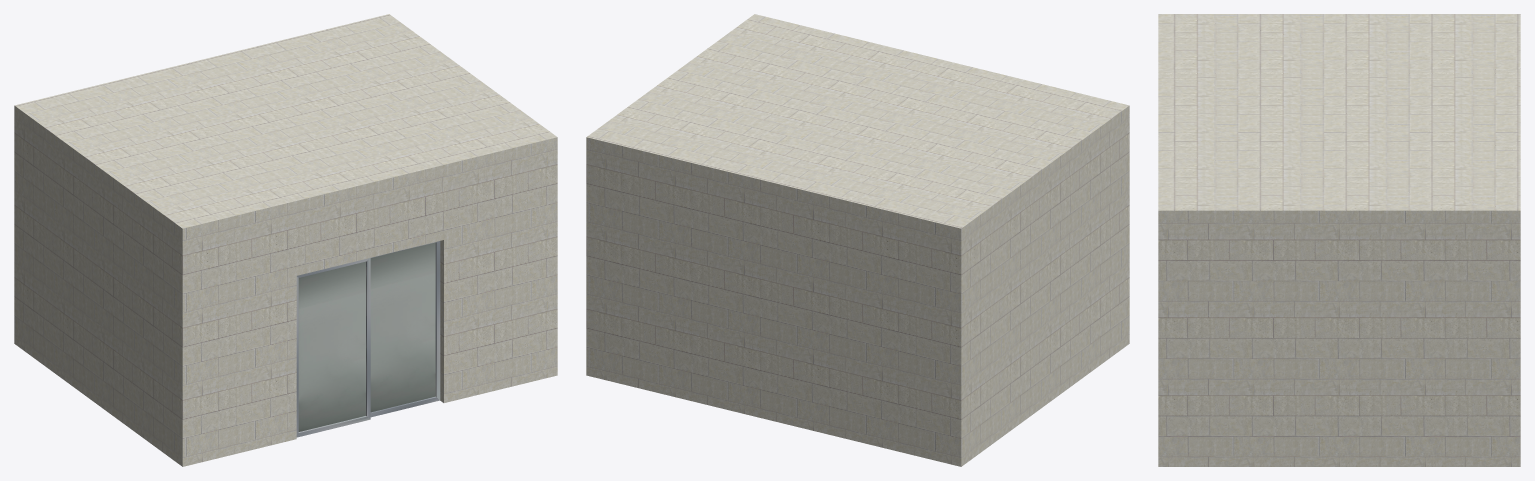
File: EnterDoor_003.fbx
3 views of the same model, side by side, from view 1: azimuth 30°, elevation 25°; view 2: azimuth 150°, elevation 25°; view 3: azimuth 270°, elevation 25° (orthographic). The views are drawn at different scales.
Visible parts, largest first — view 1: EnterDoor_003; view 2: EnterDoor_003; view 3: EnterDoor_003.
Boxes of the visible parts, bbox=[...] form: EnterDoor_003: bbox=[14, 14, 557, 466]; EnterDoor_003: bbox=[586, 14, 1129, 466]; EnterDoor_003: bbox=[1158, 14, 1520, 466].
Size of the model in its own units: 543 by 330 by 422.
2 materials, 2 textured.
